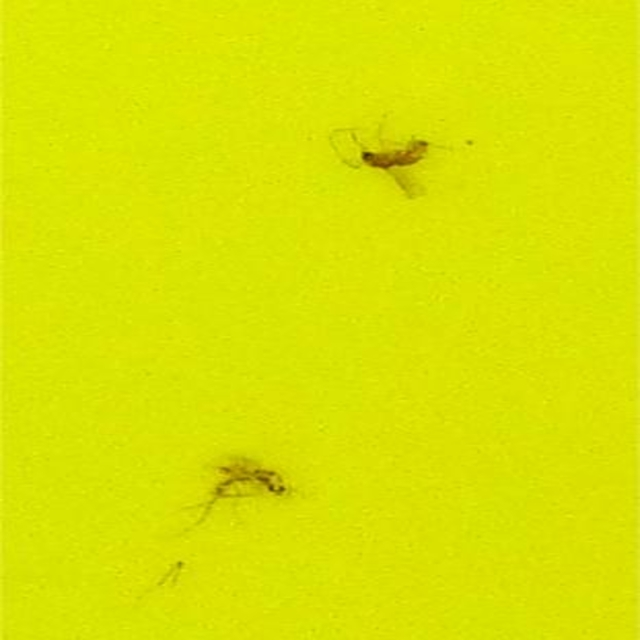Nematocera: (354, 136, 434, 197), (206, 454, 292, 504)
